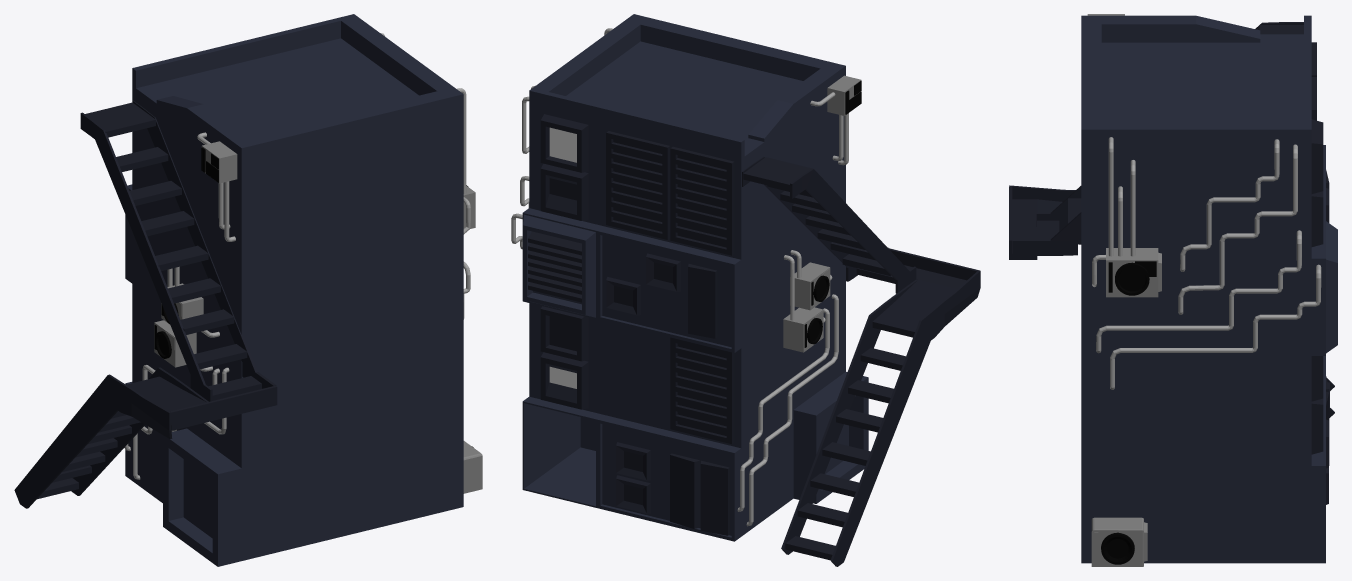
The model's file is bina4.fbx.
3 views of the same model, side by side, from view 1: azimuth 30°, elevation 25°; view 2: azimuth 150°, elevation 25°; view 3: azimuth 270°, elevation 25° (orthographic). The views are drawn at different scales.
Visible parts, largest first — view 1: Cube.015, Cube.014, Cube.017, Cube.039, Plane.018, Cube.073; view 2: Cube.015, Cube.072, Cube.014, Cube.017, Plane.018, Cube.039, Cube.018, Cube.073; view 3: Cube.015, Cube.014, Plane.018, Cube.017, Cube.072, Cube.039, Cube.073.
Part boxes in pixels (box(x1,y1,x2,y2)): Cube.015: box(125, 14, 463, 363); Cube.014: box(125, 284, 463, 566); Cube.017: box(14, 100, 277, 508); Cube.039: box(154, 141, 482, 493); Plane.018: box(124, 33, 470, 479); Cube.073: box(154, 147, 473, 447); Cube.015: box(522, 14, 845, 352); Cube.072: box(528, 114, 734, 535); Cube.014: box(522, 271, 868, 541); Cube.017: box(742, 157, 980, 566); Plane.018: box(511, 28, 848, 526); Cube.039: box(783, 75, 861, 352); Cube.018: box(549, 127, 576, 388); Cube.073: box(804, 80, 861, 347); Cube.015: box(1081, 15, 1337, 355); Cube.014: box(1081, 355, 1325, 563); Plane.018: box(1092, 137, 1321, 389); Cube.017: box(1009, 22, 1334, 417); Cube.072: box(1311, 42, 1329, 504); Cube.039: box(1087, 14, 1161, 566); Cube.073: box(1101, 261, 1156, 564).
Bounding box in the file's own units: 715 × 796 × 545.
